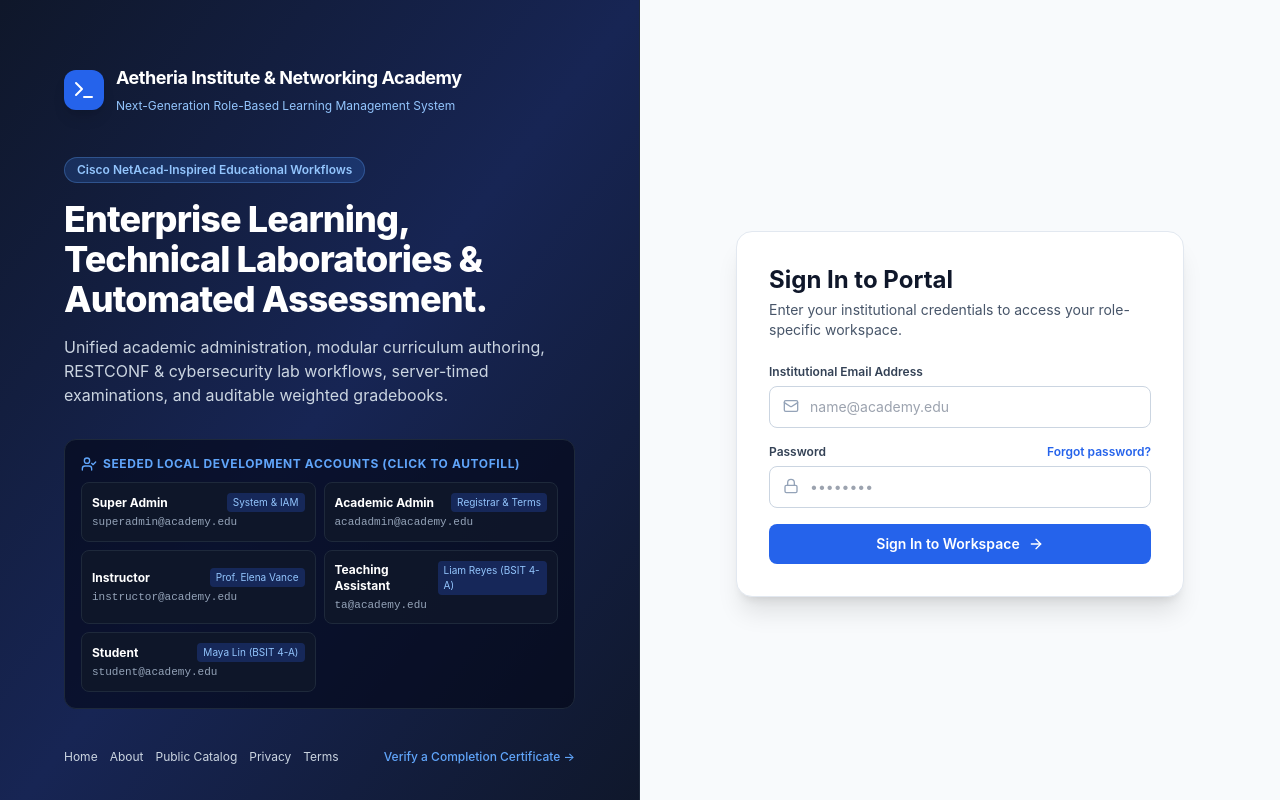
Test: NetAcad LMS Frontend Suite › Authentication & Login Workflows › validates email format and password length before submitting login form
Type "invalid-email" into the field with placeholder "name@academy.edu".
click(960, 407); type("invalid-email")  # box [769,386,1151,428]
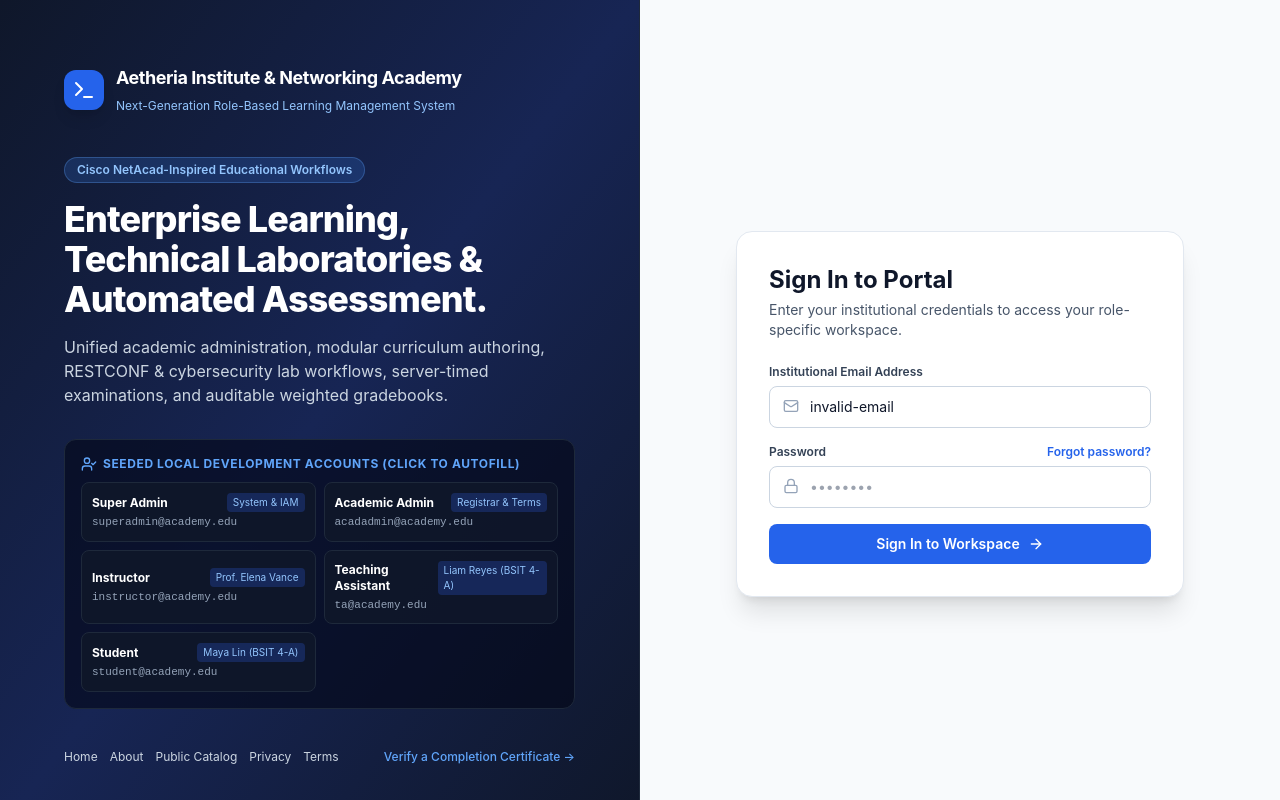
Submit the form with placeholder "name@academy.edu", box [769,364,1151,564]
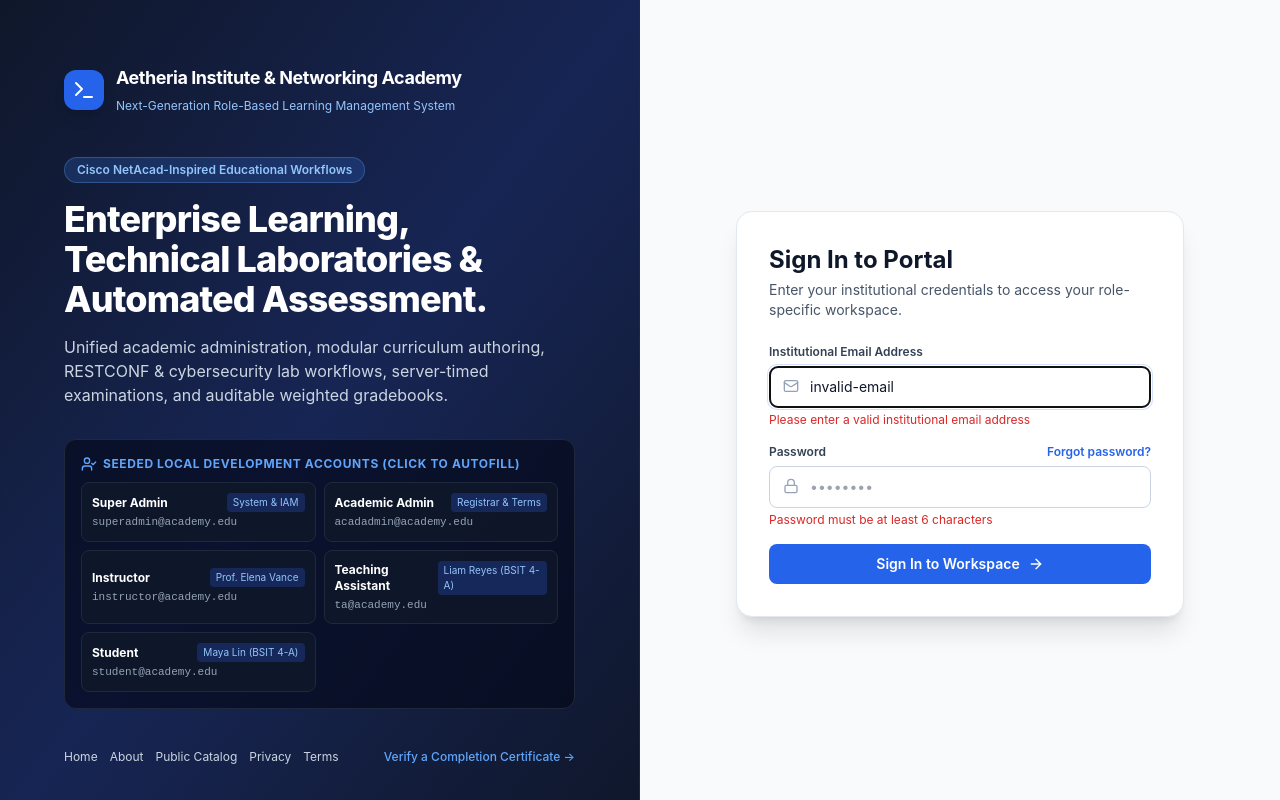
Now the text "Please enter a valid institutional email address" is shown, box [769,412,1030,427]
